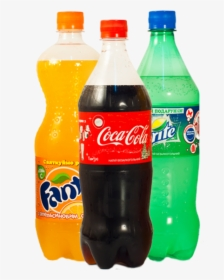coca_cola_bottle: (81, 18, 152, 267)
fanta_bottle: (34, 10, 79, 260)
sprite_bottle: (152, 10, 201, 259)
